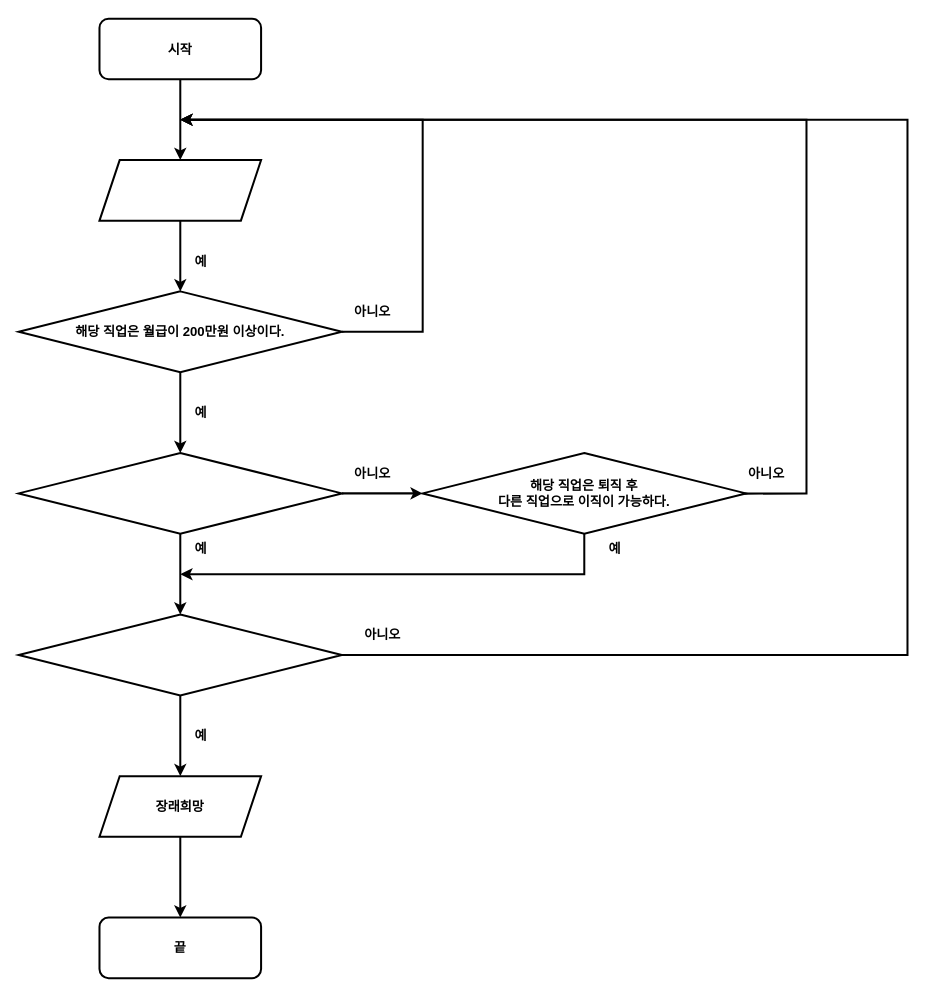
The diagram is 933 pixels wide and 996 high, and some of its shapes have lost their labels. Each missing label, with the centre of its shape:
"직업" goes at [180,190].
"해당 직업에 자부심을 느낀다." goes at [179,654].
"해당 직업의 정년은 55세 이상이다." goes at [179,492].
